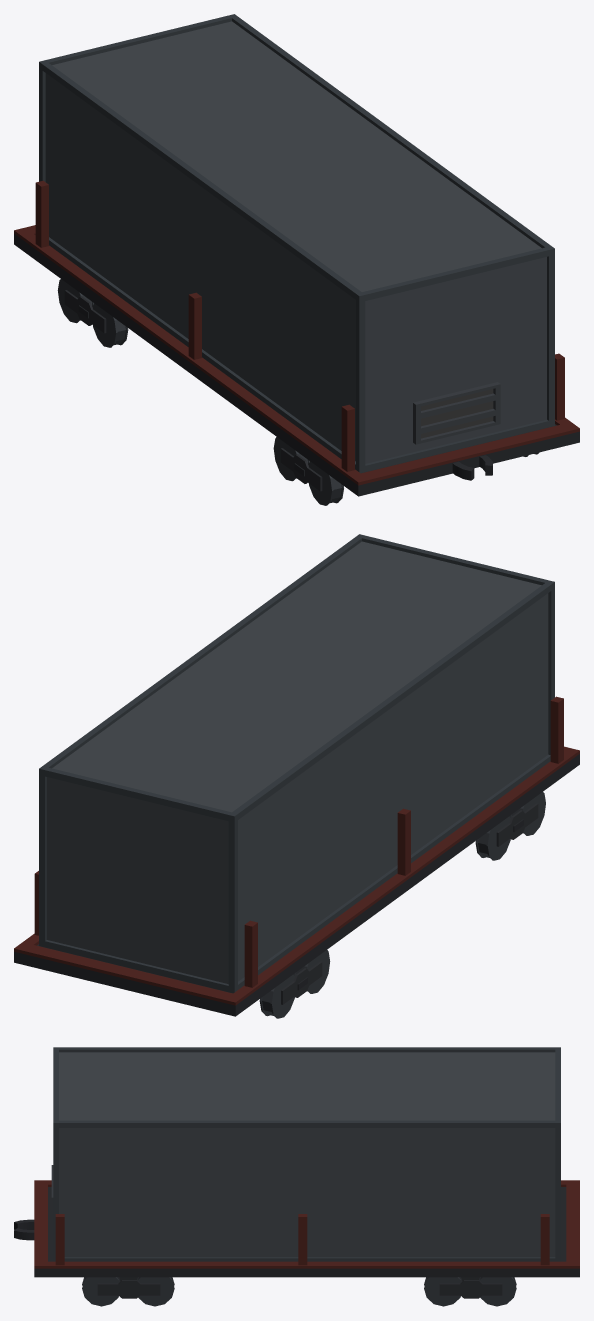
File: Wagon_3.fbx
The picture shows the model from 3 angles, top to bottom: view 1: azimuth 30°, elevation 25°; view 2: azimuth 150°, elevation 25°; view 3: azimuth 270°, elevation 25°; orthographic projection. The views are drawn at different scales.
Visible parts, largest first — view 1: Wagon_3; view 2: Wagon_3; view 3: Wagon_3.
Part boxes in pixels (<box>): Wagon_3: <box>14,14,579,505</box>; Wagon_3: <box>14,534,579,1018</box>; Wagon_3: <box>14,1047,579,1306</box>.
Size of the model in its own units: 231 by 227 by 644.
